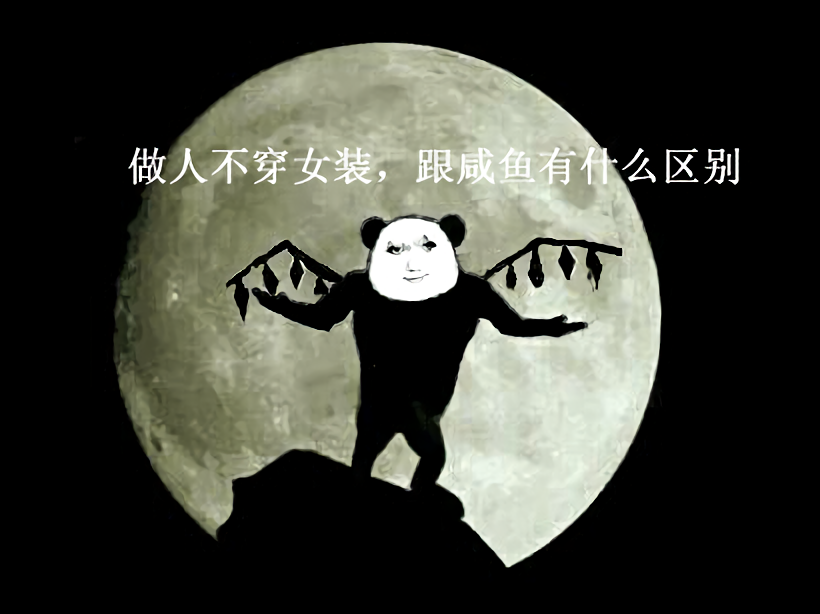dragon: (382, 235, 444, 286)
